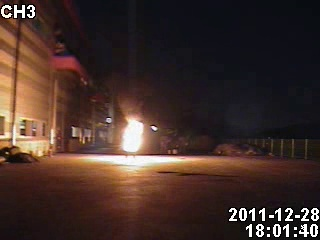fire: (115, 108, 141, 154)
